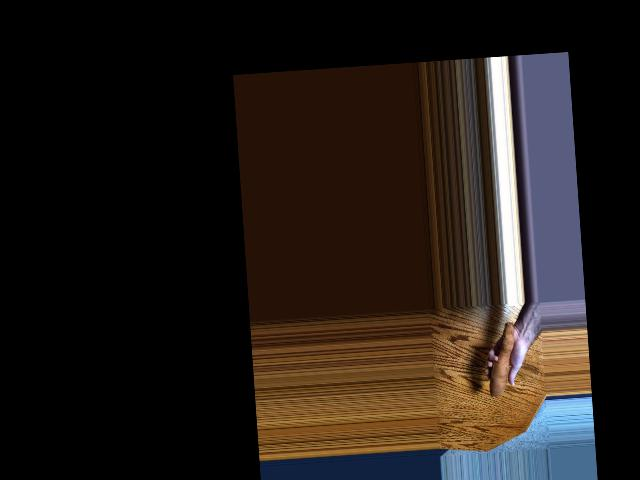sweet_potato: (481, 314, 518, 398)
